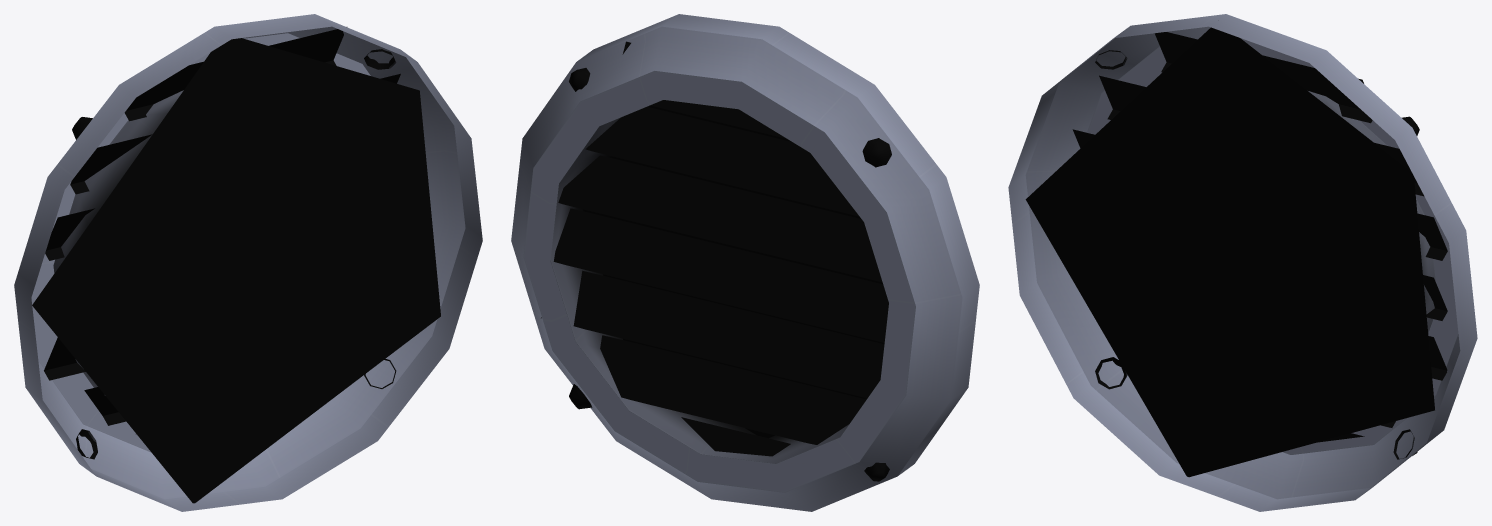
Rendered from env_building_warehouse01vent_lod1.fbx.
The picture shows the model from 3 angles, left to right: view 1: azimuth 30°, elevation 25°; view 2: azimuth 150°, elevation 25°; view 3: azimuth 330°, elevation 25°; orthographic projection.
Visible parts, largest first — view 1: polySurface1236; view 2: polySurface1236; view 3: polySurface1236.
Part boxes in pixels (bbox=[...]): polySurface1236: bbox=[14, 14, 482, 511]; polySurface1236: bbox=[511, 14, 979, 511]; polySurface1236: bbox=[1008, 14, 1477, 511].
Bounding box in the file's own units: 22.29 × 22.29 × 2.94.
